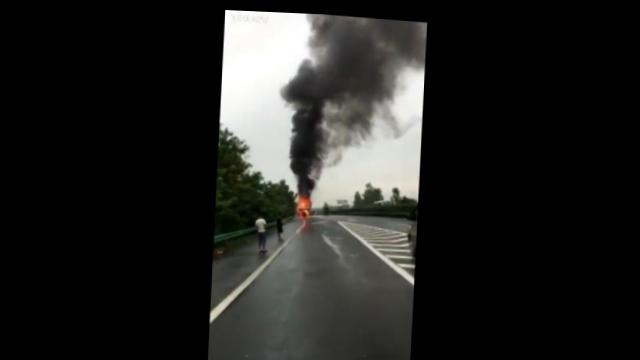fire: (299, 196, 311, 205)
